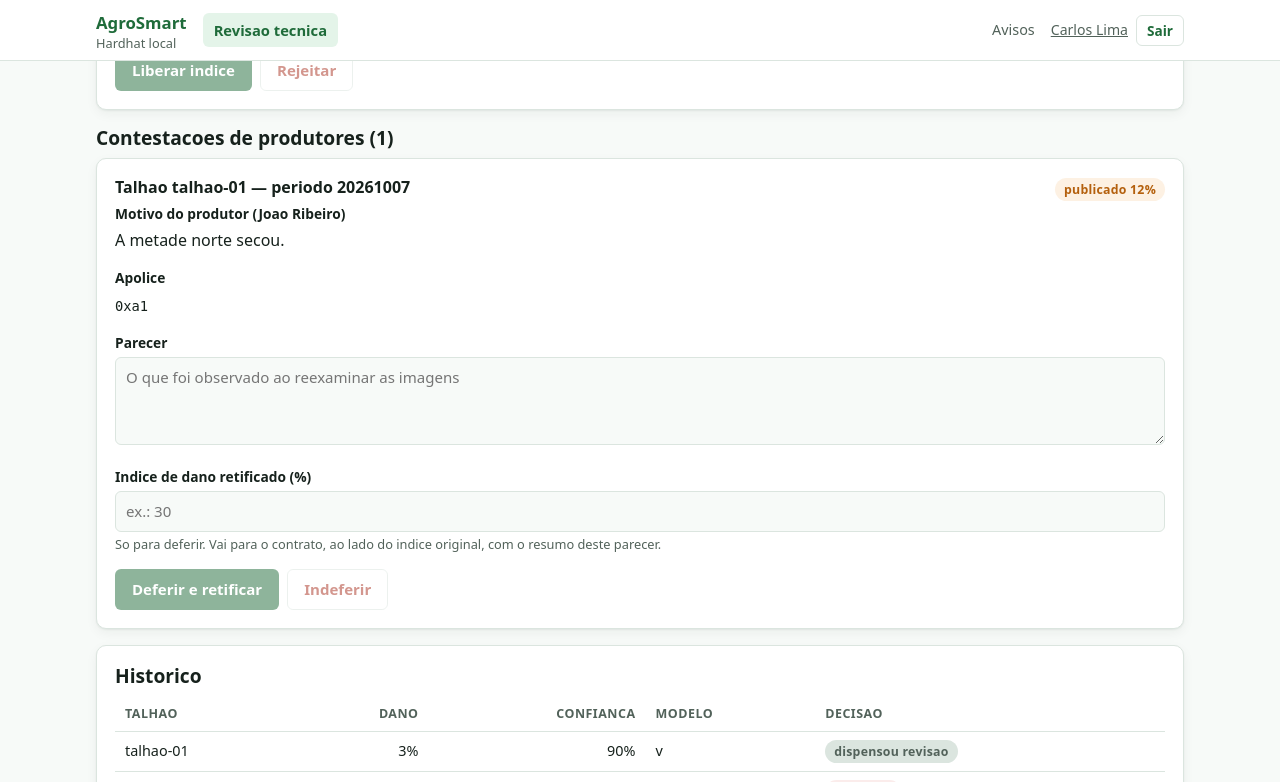
Test: revisao tecnica do perito (RF17, RF28) › indefere a contestacao, e o erro do servidor aparece quando ha
(page scrolled)
Step 1. Type "As fotos mostram a lavoura bem." into the text box labelled "Parecer" → (640, 401), box [115,357,1165,445]
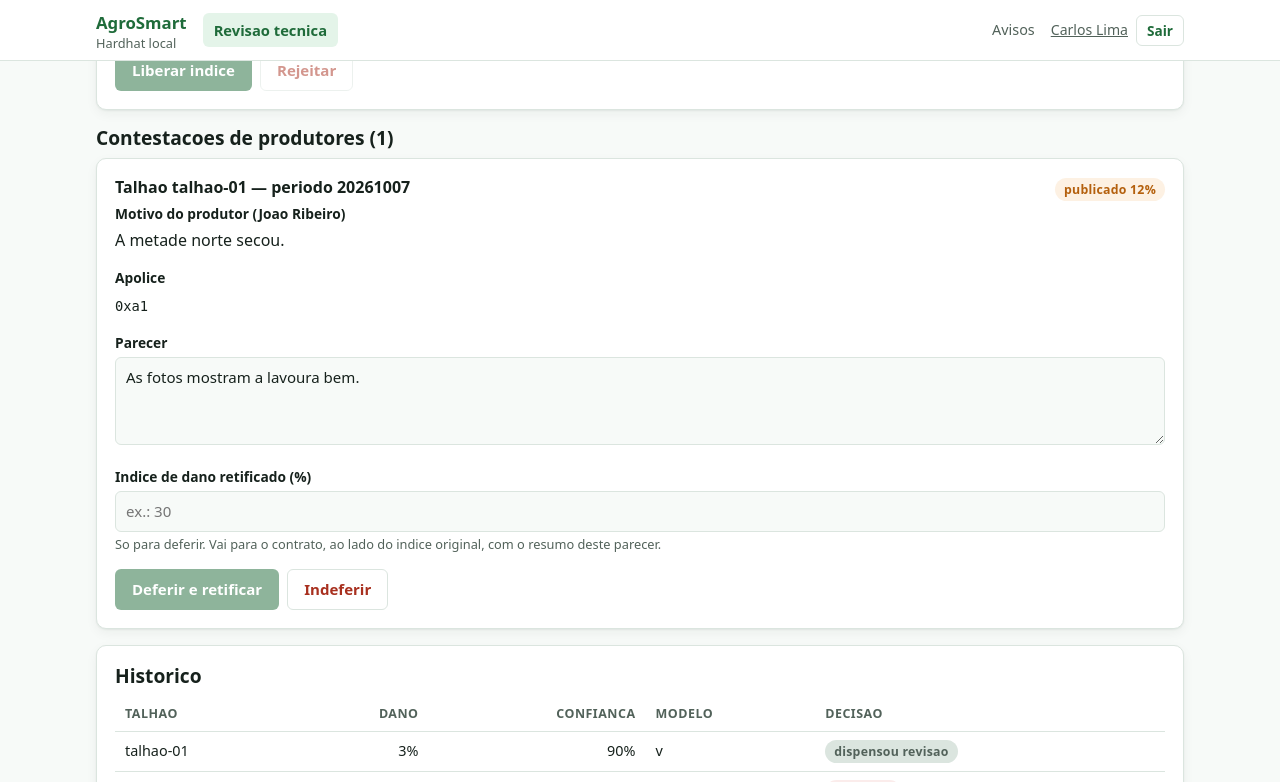
Step 2. Click the button "Indeferir" → (338, 590), box [287,569,388,610]
(page scrolled)
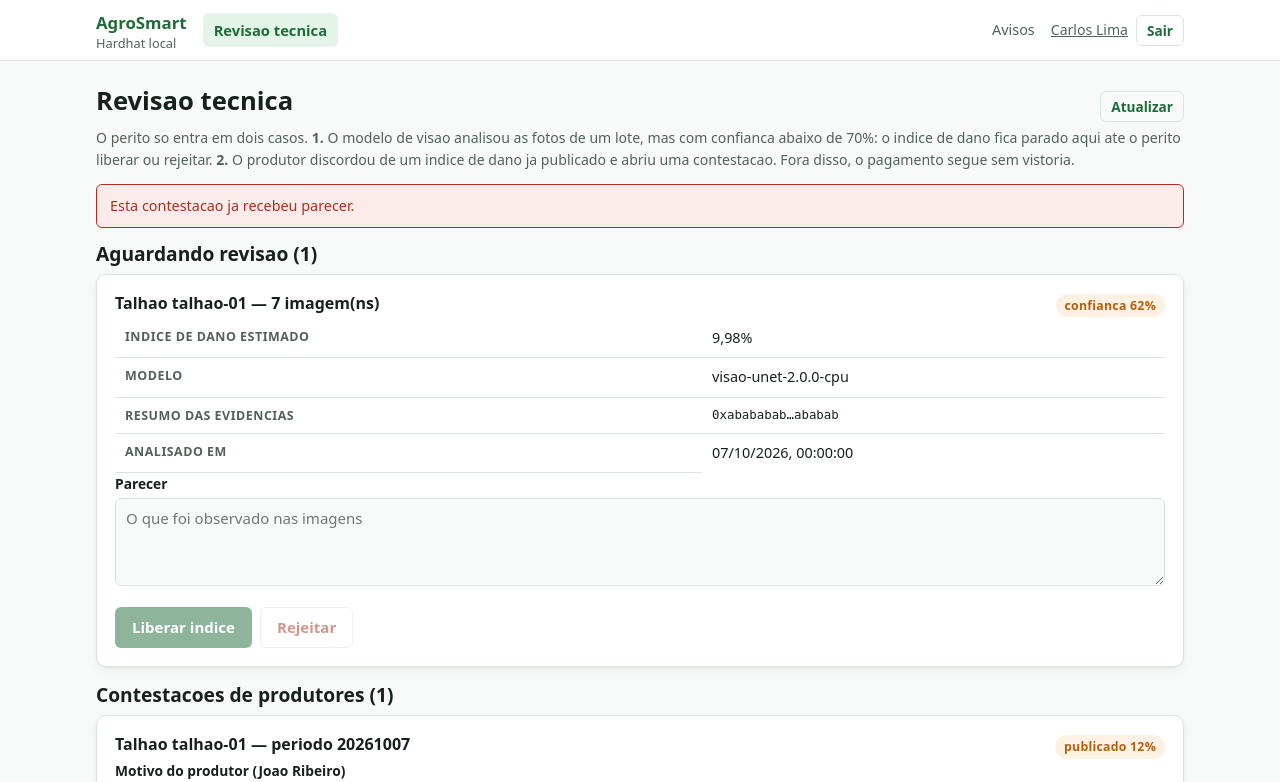
Expected: the text "Esta contestacao ja recebeu parecer." is shown, [96,184,1184,228]
